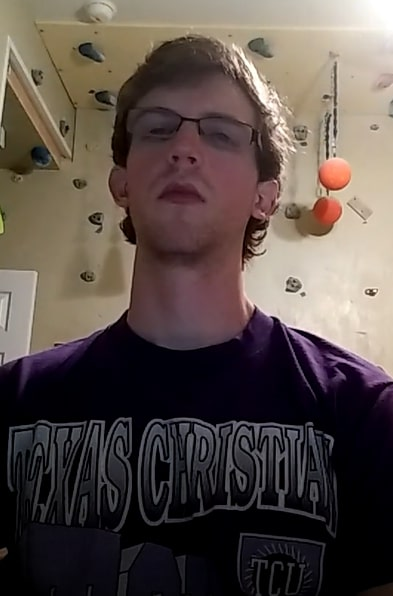Half Asleep: (121, 105, 256, 156)
